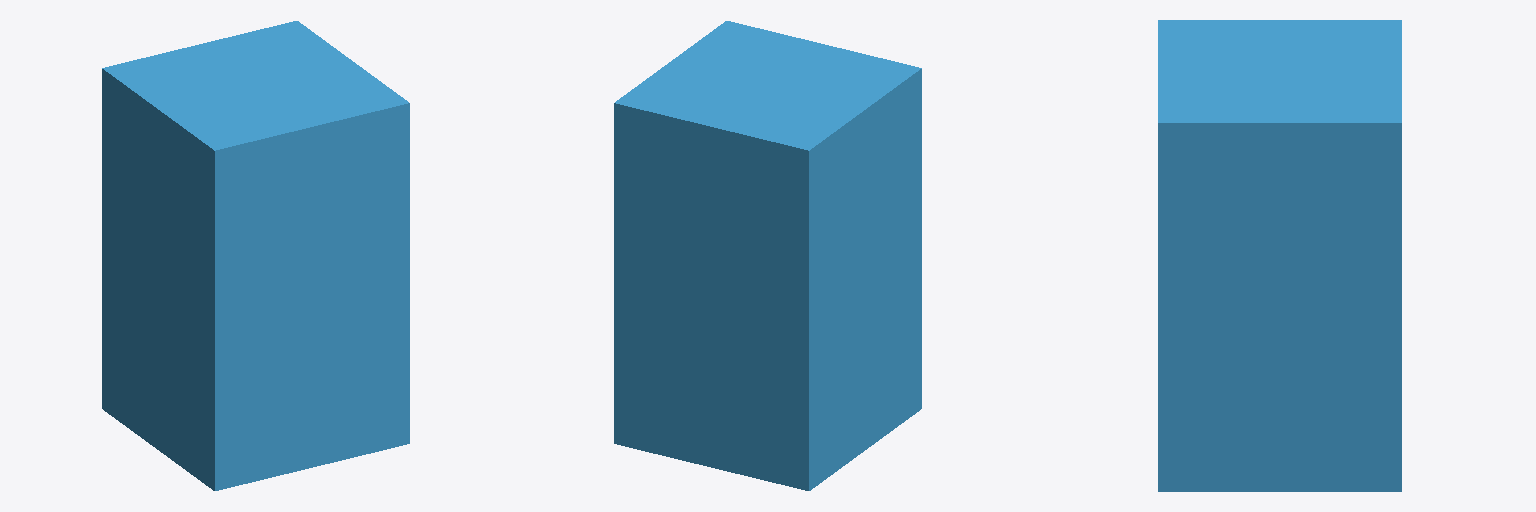
robot.urdf — cabinet:
<?xml version="1.0"?>
<robot name="cabinet">
  <link name="base"/>
  <joint name="cabinet_joint" type="fixed">
    <parent link="base"/>
    <child link="cabinet"/>
    <origin xyz="0 0 0"/>
  </joint>
  <link name="cabinet">
    <collision>
      <geometry><box size="0.6 0.6 1.0"/></geometry>
    </collision>
    <visual>
      <geometry><box size="0.6 0.6 1.0"/></geometry>
    </visual>
  </link>
  <joint name="drawer_joint" type="prismatic">
    <parent link="cabinet"/>
    <child link="drawer"/>
    <origin xyz="0 0 0.3"/>
    <axis xyz="0 1 0"/>
    <limit lower="0" upper="0.4" effort="10" velocity="1"/>
  </joint>
  <link name="drawer">
    <collision>
      <geometry><box size="0.5 0.5 0.2"/></geometry>
    </collision>
    <visual>
      <geometry><box size="0.5 0.5 0.2"/></geometry>
    </visual>
  </link>
  <joint name="handle_joint" type="fixed">
    <parent link="drawer"/>
    <child link="handle"/>
    <origin xyz="0 0.26 0"/>
  </joint>
  <link name="handle">
    <collision>
      <geometry><box size="0.12 0.03 0.03"/></geometry>
    </collision>
    <visual>
      <geometry><box size="0.12 0.03 0.03"/></geometry>
    </visual>
  </link>
</robot>

--- Render facts (derived) ---
The picture shows the robot from 3 angles, left to right: view 1: azimuth 30°, elevation 25°; view 2: azimuth 150°, elevation 25°; view 3: azimuth 270°, elevation 25°; orthographic projection.
Model cabinet with 4 links and 3 joints (1 prismatic, 2 fixed), rooted at base, posed every joint at zero.
Links seen in each view (by area): view 1: cabinet; view 2: cabinet; view 3: cabinet.
Link boxes in pixels (x1,y1,x2,y2): cabinet: (102, 21, 409, 490); cabinet: (614, 21, 921, 490); cabinet: (1158, 20, 1401, 491).
Size in the robot's own frame: 0.6 by 0.6 by 1 metres.
Geometry: primitives only (box / cylinder / sphere), no mesh files.
